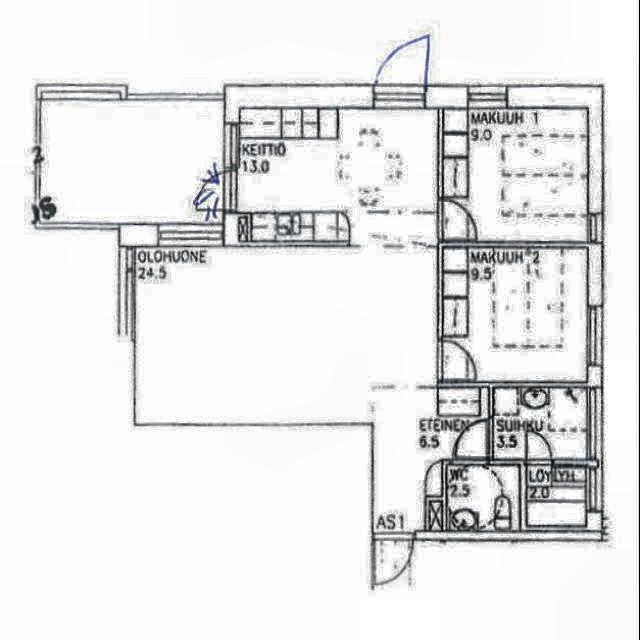room: (442, 247, 587, 382), (442, 108, 588, 242), (493, 388, 587, 459), (446, 465, 520, 531), (526, 465, 587, 526)
